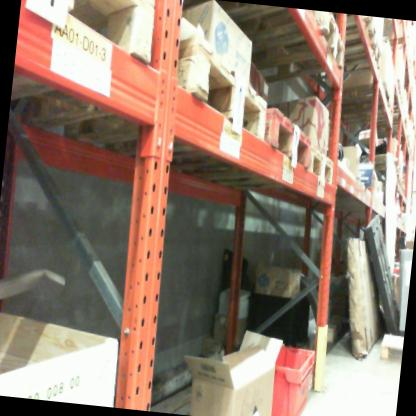pallet: (57, 22, 279, 157), (16, 0, 182, 79), (213, 2, 361, 82), (170, 99, 314, 179), (315, 64, 399, 128), (146, 372, 240, 416), (297, 140, 346, 197), (307, 303, 364, 352), (324, 11, 382, 53), (386, 175, 413, 210), (379, 328, 404, 362)
small_load_carrier: (245, 335, 326, 416)
